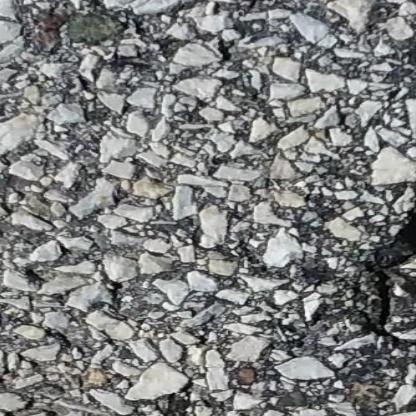Cracks: (354, 173, 416, 416)
